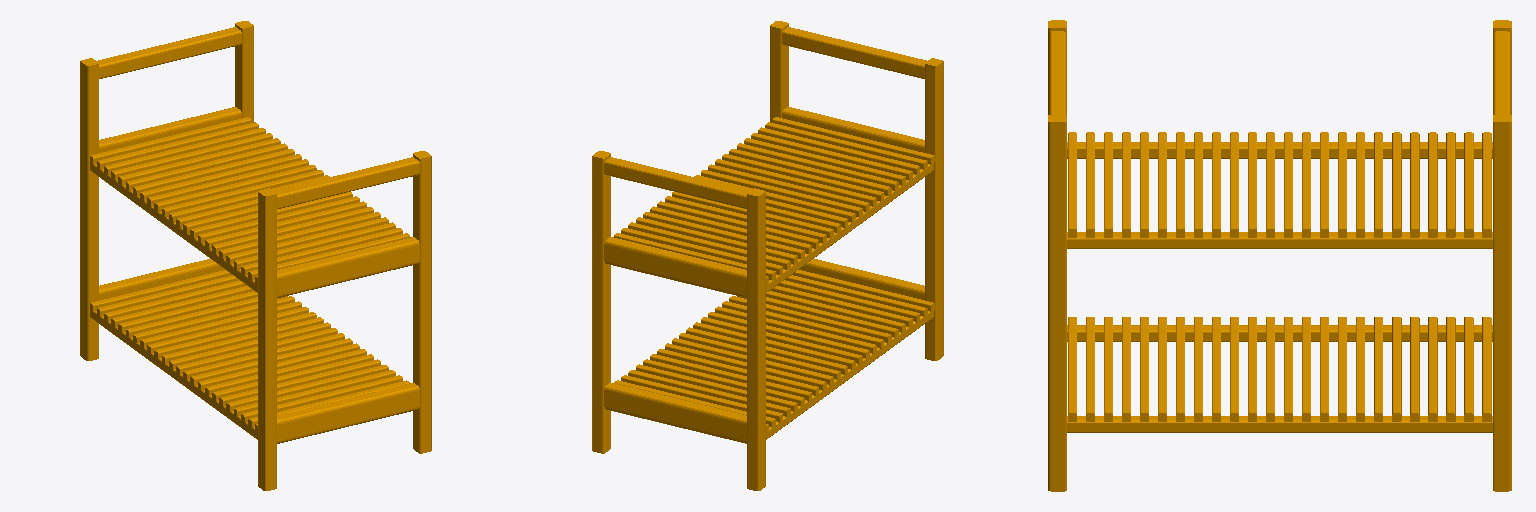
robot.urdf — shelf:
<?xml version="1.0"?>
<robot name="shelf">
  <link name="base_link">
    <inertial>
      <mass value="0.1" />
      <origin xyz="0 0 0" />
      <inertia  ixx="0.0002" ixy="0.0"  ixz="0.0"  iyy="0.0002"  iyz="0.0" izz="0.0002" />
    </inertial>
    <visual>
      <geometry>
        <mesh filename="assets/base.obj" />
      </geometry>
    </visual>
    <collision>
      <origin xyz="0 0 -0.015"/>
      <geometry>
        <box size="0.2 0.375 0.018"/>
      </geometry>
    </collision>

    <collision>
      <origin xyz="0 0 -0.1"/>
      <geometry>
        <box size="0.2 0.375 0.15"/>
      </geometry>
    </collision>
  </link>
</robot>

--- Render facts (derived) ---
Views: 3 orthographic renders of the robot side by side, from view 1: azimuth 30°, elevation 25°; view 2: azimuth 150°, elevation 25°; view 3: azimuth 270°, elevation 25°.
Model shelf with 1 links and 0 joints (none), rooted at base_link, posed all joints at 0.
Links seen in each view (by area): view 1: base_link; view 2: base_link; view 3: base_link.
Link boxes in pixels (x1=…): base_link: x1=80, y1=21, x2=431, y2=490; base_link: x1=592, y1=21, x2=943, y2=490; base_link: x1=1048, y1=20, x2=1511, y2=491.
Bounding box of the posed robot: 0.2049 × 0.3942 × 0.3457 m (x, y, z).
Meshes: 1 distinct files referenced, 1 mesh visuals loaded (1 OBJ).